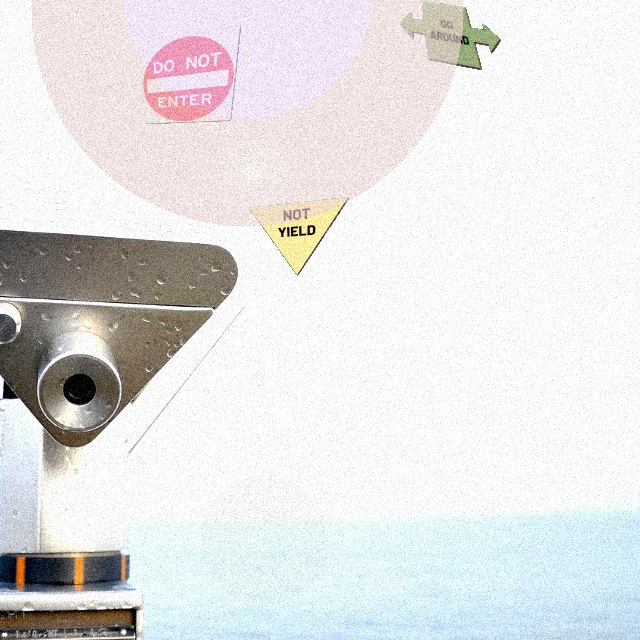DO_NOT_ENTER: (139, 24, 241, 124)
GO_AROUND: (399, 0, 501, 70)
NOT_YIELD: (248, 196, 350, 276)
